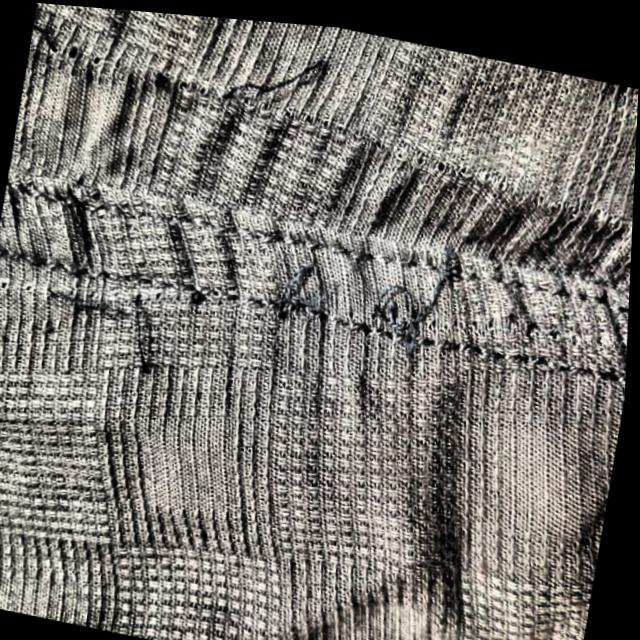Stitch: (344, 218, 483, 356), (30, 265, 171, 371), (205, 18, 332, 135), (255, 229, 345, 353)
